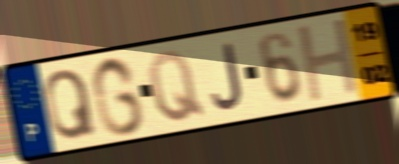6: (257, 30, 303, 107)
G: (89, 54, 147, 139)
H: (294, 14, 363, 106)
J: (209, 40, 246, 113)
Q: (146, 48, 209, 125), (42, 67, 99, 143)
